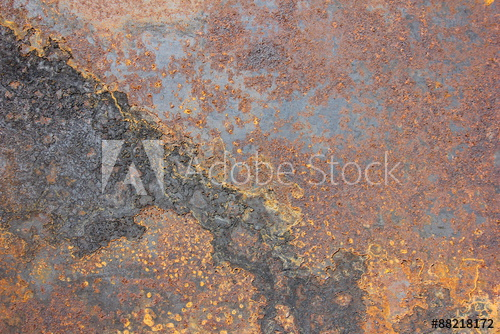rust: (2, 2, 500, 332)
